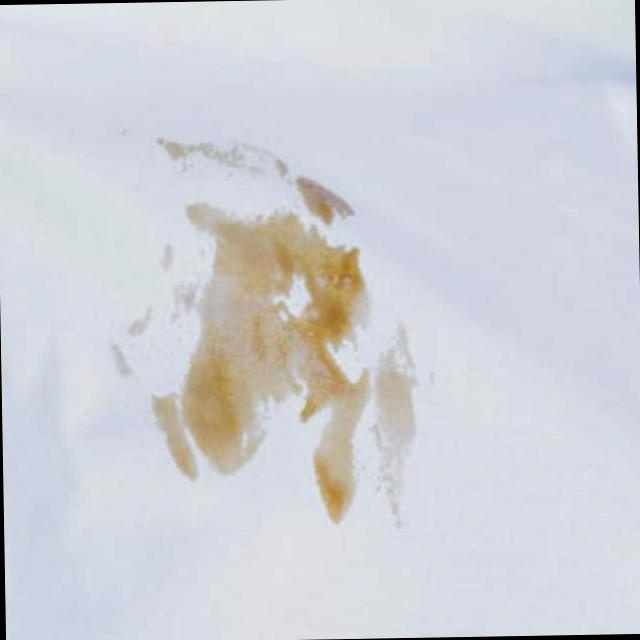coffee: (170, 198, 362, 521), (374, 327, 421, 519)
